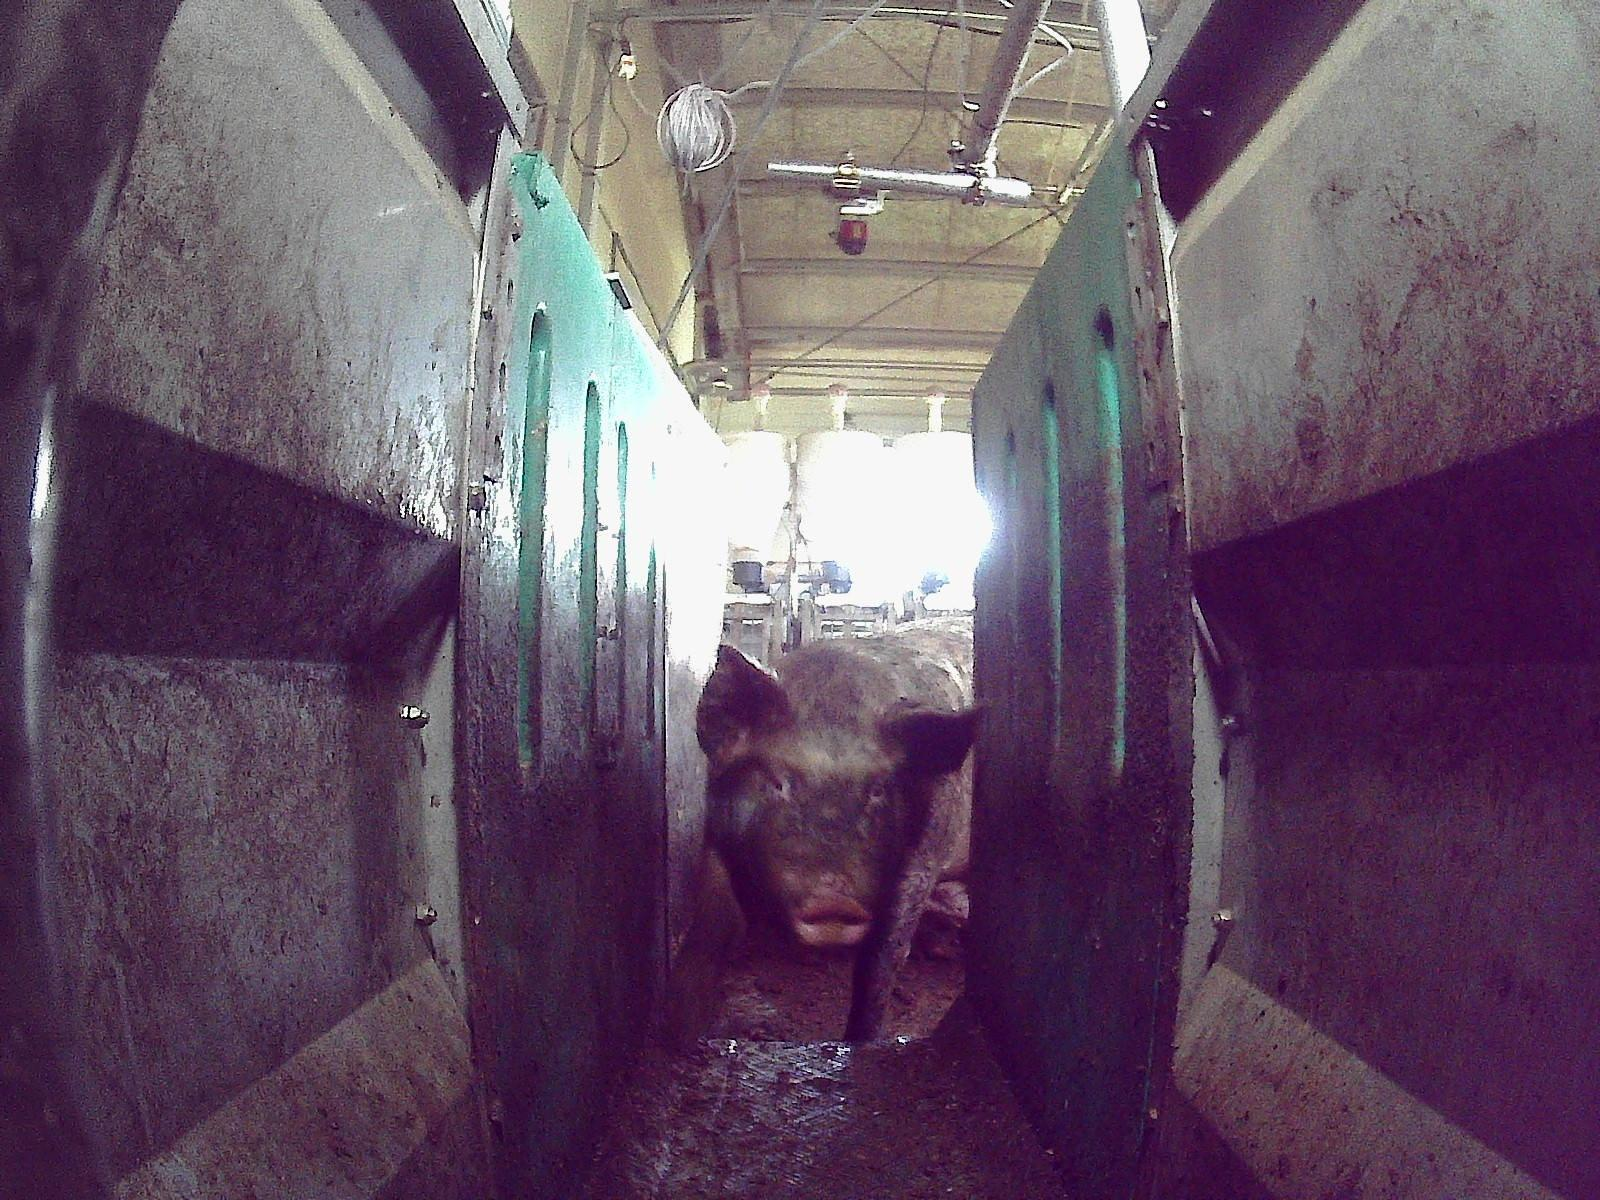Face: (736, 713, 907, 948)
